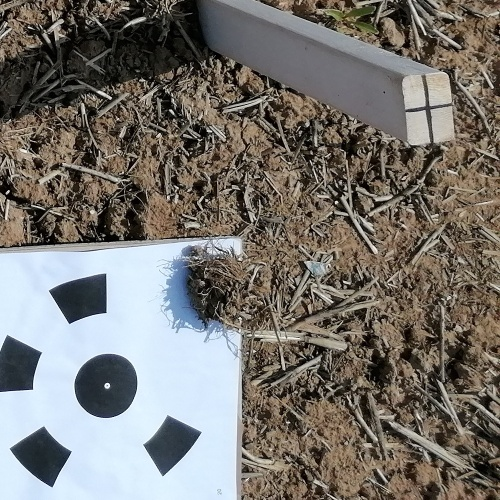beet: (324, 7, 379, 37)
